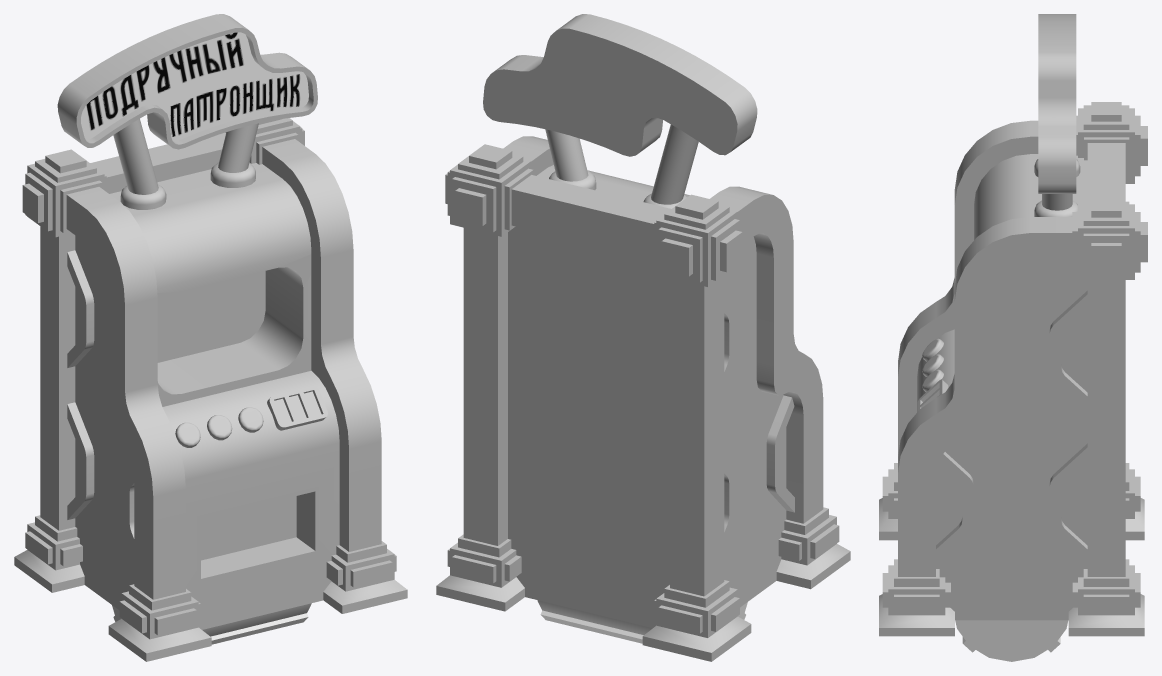
The model's file is Prop_VendingMachine_Ammo.fbx.
The picture shows the model from 3 angles, left to right: view 1: azimuth 30°, elevation 25°; view 2: azimuth 150°, elevation 25°; view 3: azimuth 270°, elevation 25°; orthographic projection. The views are drawn at different scales.
Parts seen in each view (by area): view 1: Prop_VendingMachine_Ammo, Prop_VendingMachine_Ammo_Reel; view 2: Prop_VendingMachine_Ammo, Prop_VendingMachine_Ammo_Reel; view 3: Prop_VendingMachine_Ammo, Prop_VendingMachine_Ammo_Reel.
Boxes of the visible parts, x1=… form: Prop_VendingMachine_Ammo: x1=14, y1=14, x2=407, y2=661; Prop_VendingMachine_Ammo_Reel: x1=112, y1=603, x2=311, y2=644; Prop_VendingMachine_Ammo: x1=436, y1=14, x2=850, y2=661; Prop_VendingMachine_Ammo_Reel: x1=537, y1=600, x2=747, y2=643; Prop_VendingMachine_Ammo: x1=879, y1=14, x2=1147, y2=636; Prop_VendingMachine_Ammo_Reel: x1=955, y1=620, x2=1068, y2=661.
Size of the model in its own units: 139 by 293 by 121.
